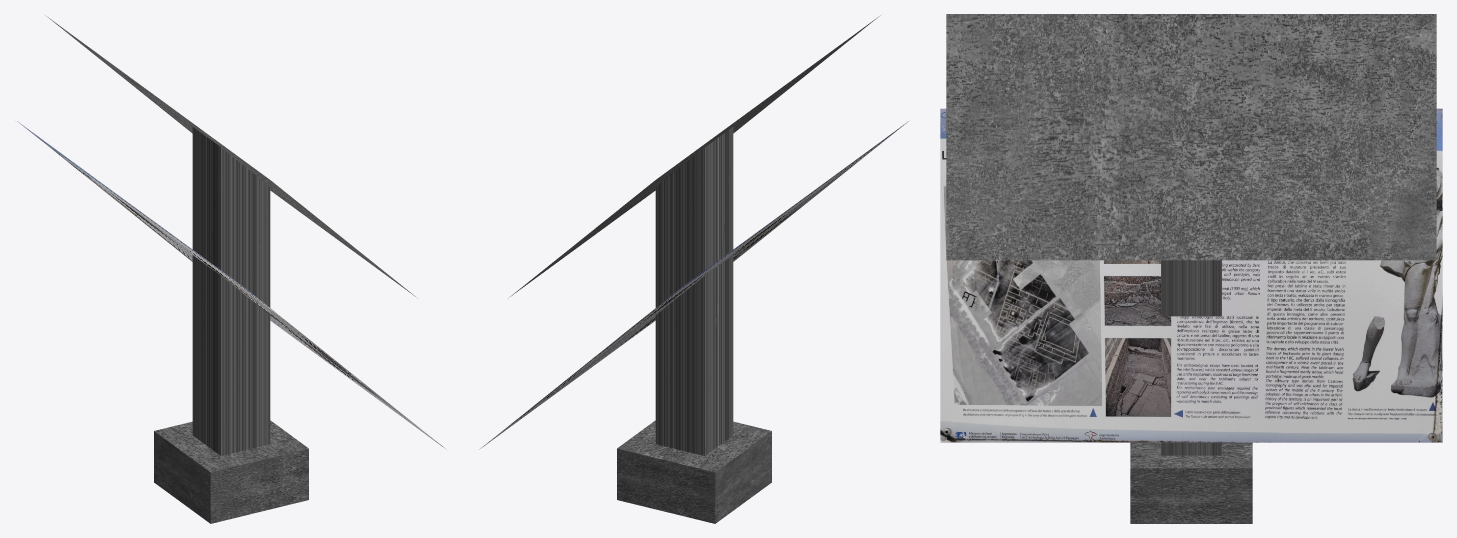
File: PAlchitrave.glb
The picture shows the model from 3 angles, left to right: view 1: azimuth 30°, elevation 25°; view 2: azimuth 150°, elevation 25°; view 3: azimuth 270°, elevation 25°; orthographic projection. The views are drawn at different scales.
Visible parts, largest first — view 1: Cube, Plane; view 2: Cube, Plane; view 3: Cube, Plane.
Part boxes in pixels (box(x1,y1,x2,y2)): Cube: box(45, 15, 415, 523); Plane: box(17, 121, 446, 449); Cube: box(510, 15, 880, 523); Plane: box(479, 121, 908, 449); Cube: box(946, 14, 1436, 523); Plane: box(940, 108, 1442, 442).
Size of the model in its own units: 134385 by 262544 by 268689.
Materials: 2 (2 with a texture image).
